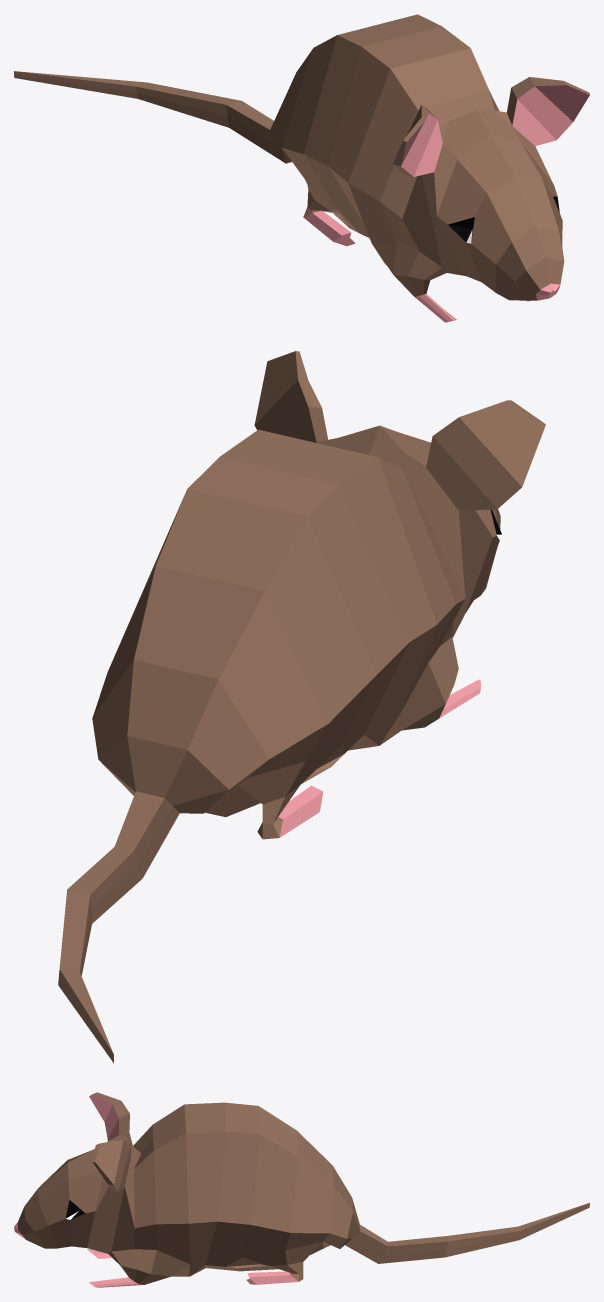
The model's file is rat.fbx.
The picture shows the model from 3 angles, top to bottom: view 1: azimuth 30°, elevation 25°; view 2: azimuth 150°, elevation 25°; view 3: azimuth 270°, elevation 25°; orthographic projection. The views are drawn at different scales.
Visible parts, largest first — view 1: Cube; view 2: Cube; view 3: Cube.
Part boxes in pixels (<box>): Cube: <box>14,14,589,322</box>; Cube: <box>58,351,545,1062</box>; Cube: <box>14,1092,589,1287</box>.
Bounding box in the file's own units: 281 × 243 × 820.
